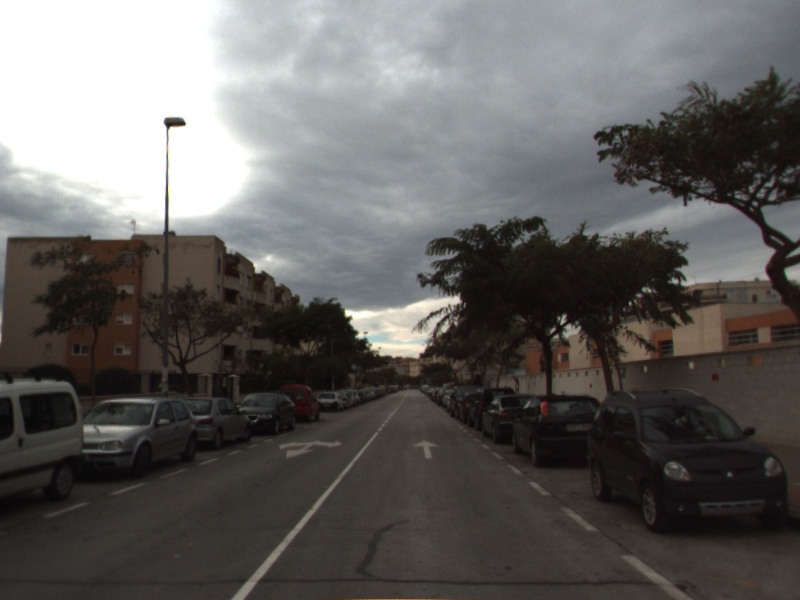STRAIGHT: (412, 438, 442, 460)
